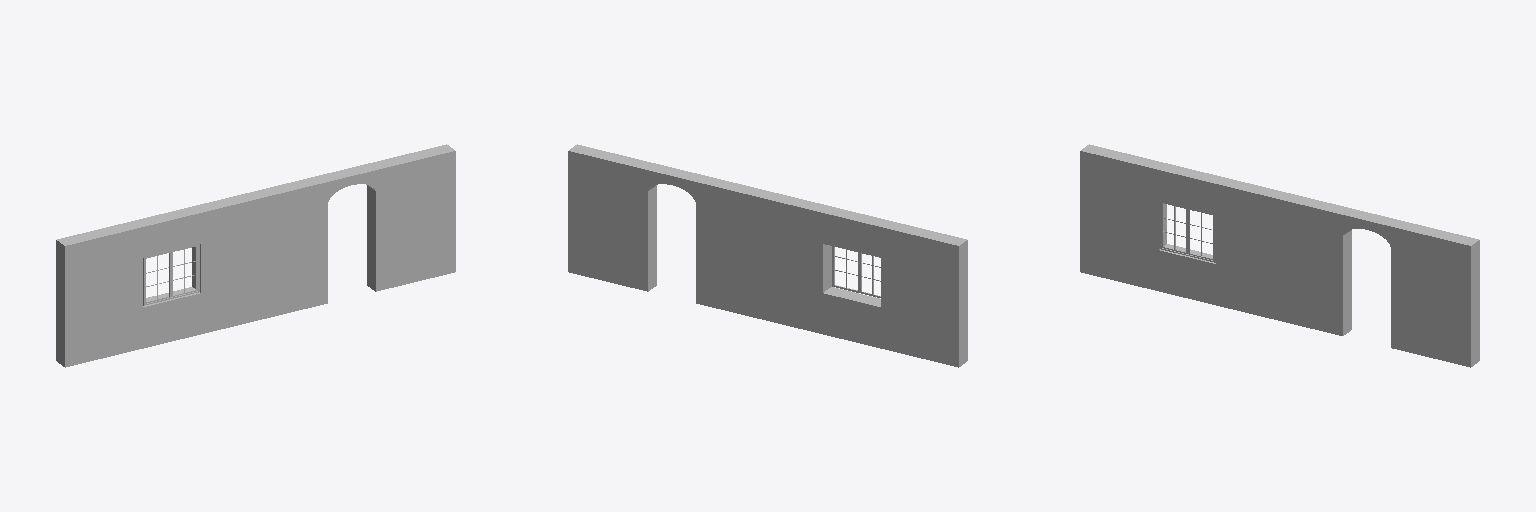
File: Pared1A.obj
3 views of the same model, side by side, from view 1: azimuth 30°, elevation 25°; view 2: azimuth 150°, elevation 25°; view 3: azimuth 330°, elevation 25° (orthographic).
Visible parts, largest first — view 1: pasted__polySurface465 group11; view 2: pasted__polySurface465 group11; view 3: pasted__polySurface465 group11.
Boxes of the visible parts, x1,y1,x2,y2 form: pasted__polySurface465 group11: [56, 144, 455, 367]; pasted__polySurface465 group11: [568, 144, 967, 367]; pasted__polySurface465 group11: [1080, 144, 1479, 367].
Size of the model in its own units: 22.33 by 6.64 by 0.8689.